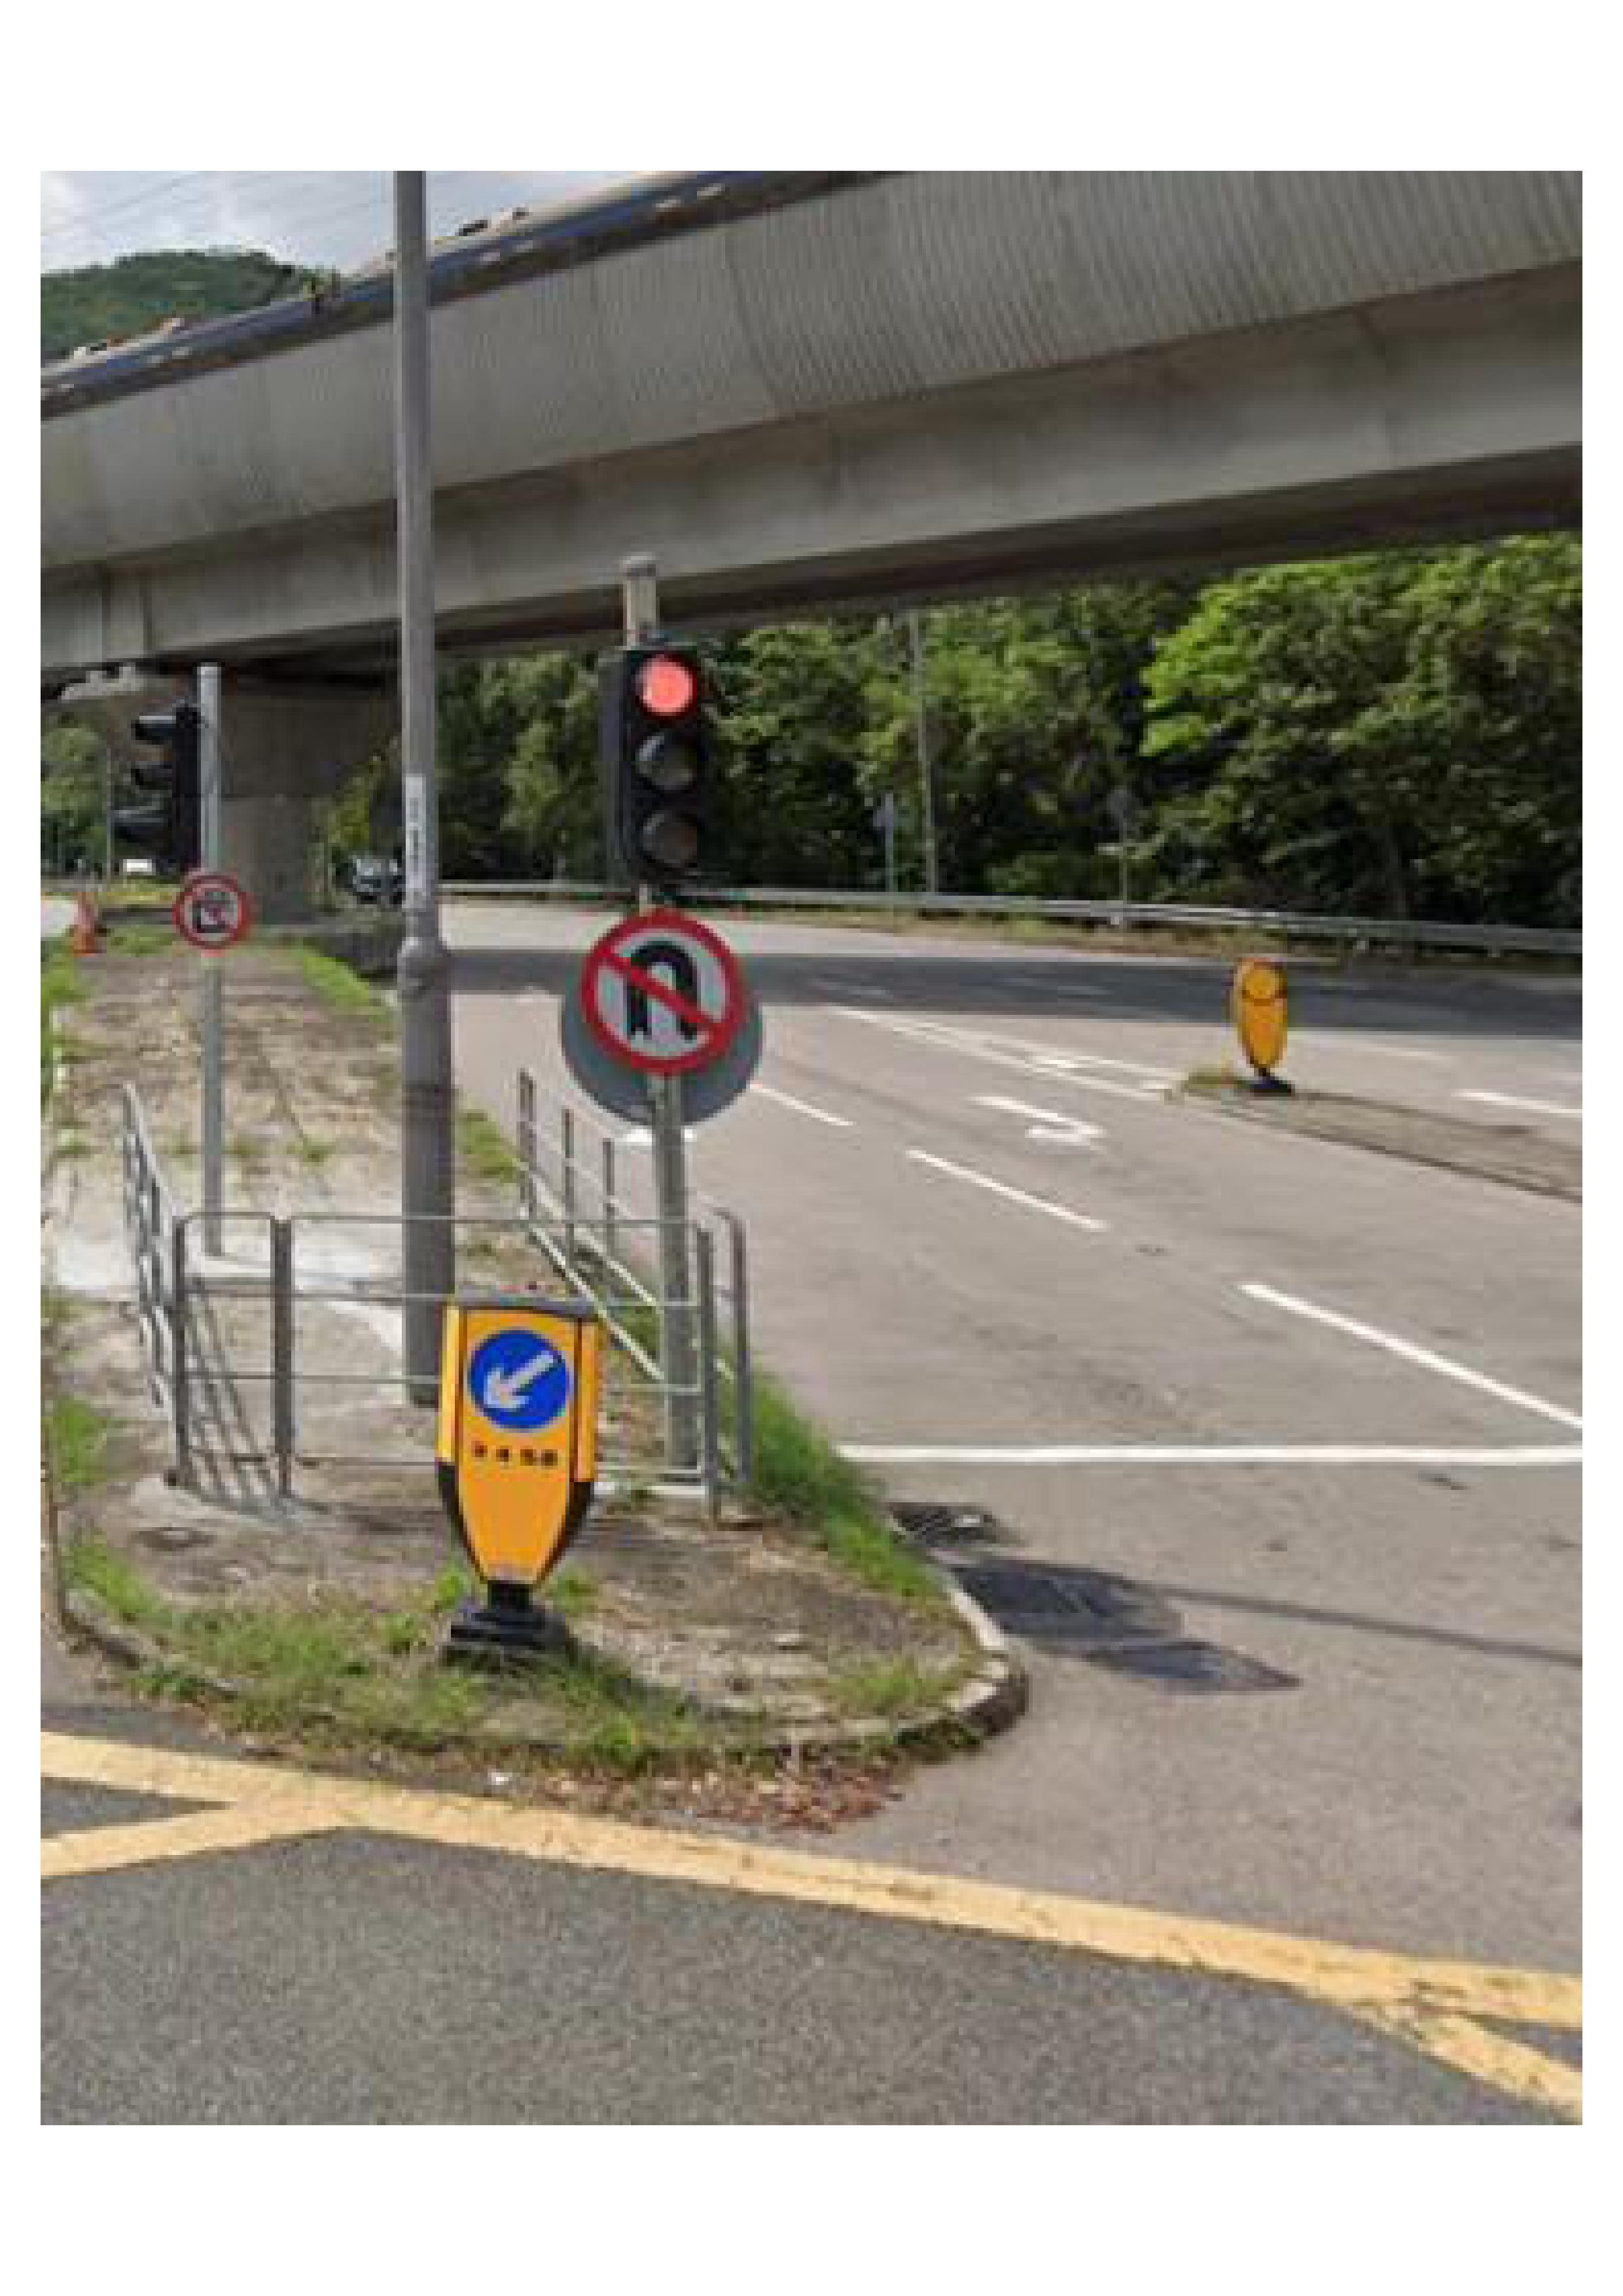No Uturn: (585, 913, 748, 1074)
